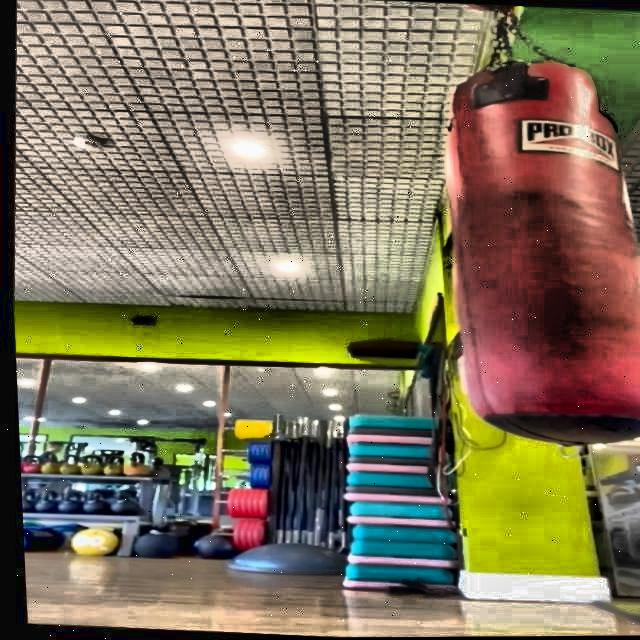boxing-bag: (433, 2, 640, 448)
